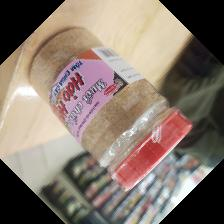Hao_hao: (26, 25, 191, 190)
